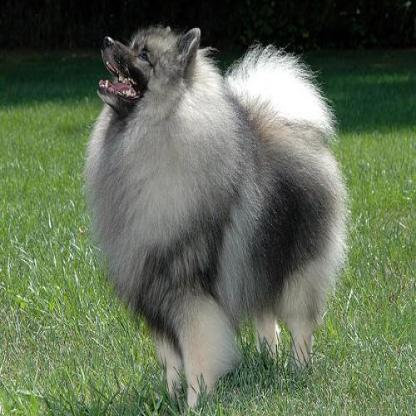keeshond: (78, 20, 350, 411)
